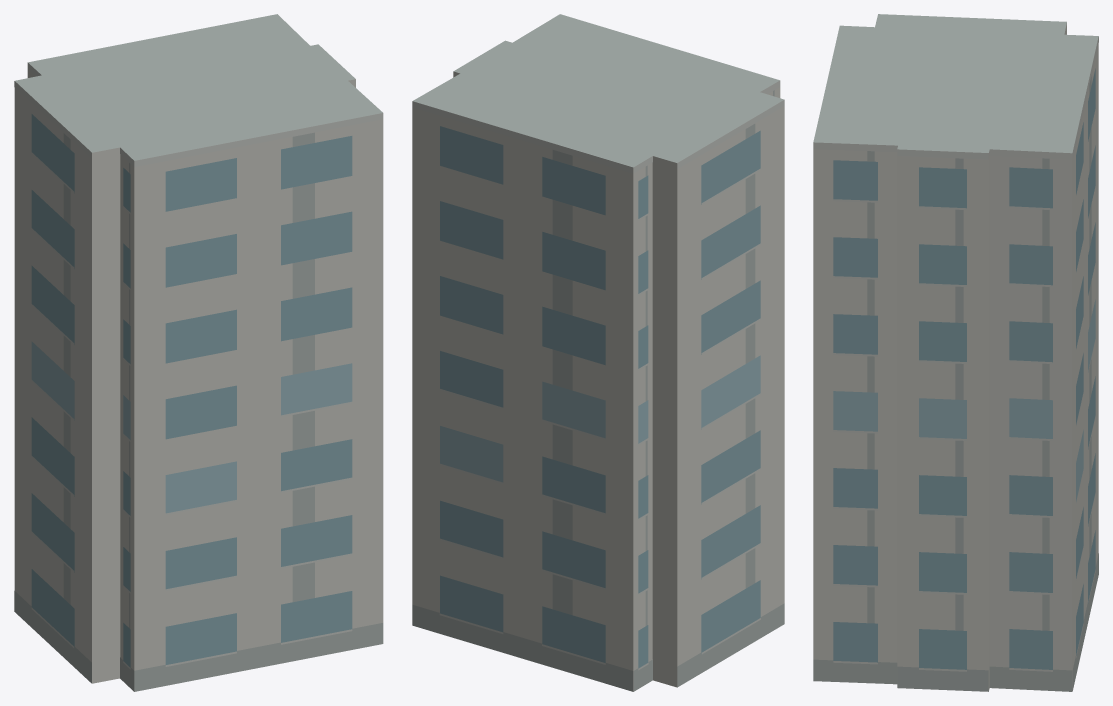
The model's file is survey-upis-32760566.glb.
3 renders of one model, left to right at view 1: azimuth 30°, elevation 25°; view 2: azimuth 150°, elevation 25°; view 3: azimuth 270°, elevation 25°, orthographic. The views are drawn at different scales.
Visible parts, largest first — view 1: survey-upis-32760566.tmp; view 2: survey-upis-32760566.tmp; view 3: survey-upis-32760566.tmp.
Boxes of the visible parts, <box> form: survey-upis-32760566.tmp: <box>14,14,383,691</box>; survey-upis-32760566.tmp: <box>412,14,784,691</box>; survey-upis-32760566.tmp: <box>813,14,1098,691</box>.
Bounding box in the file's own units: 11.07 × 19.95 × 9.59.
